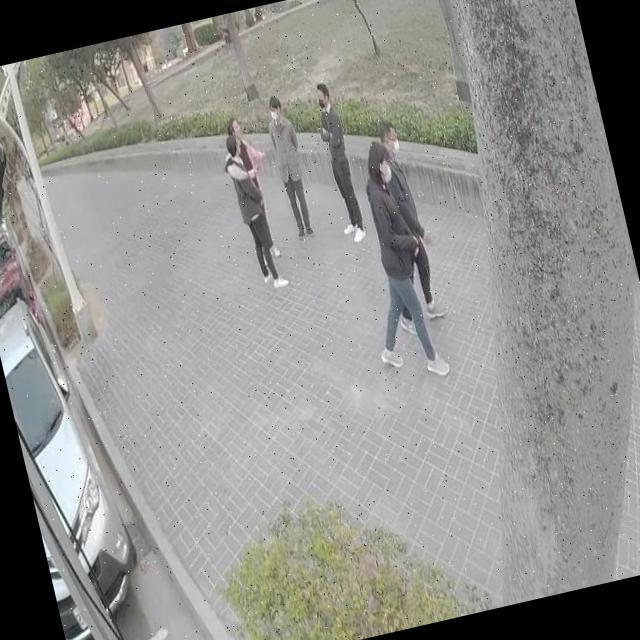person: (332, 130, 458, 382), (367, 116, 455, 348), (216, 120, 294, 298), (224, 108, 292, 264), (308, 80, 367, 242), (261, 92, 318, 241)
